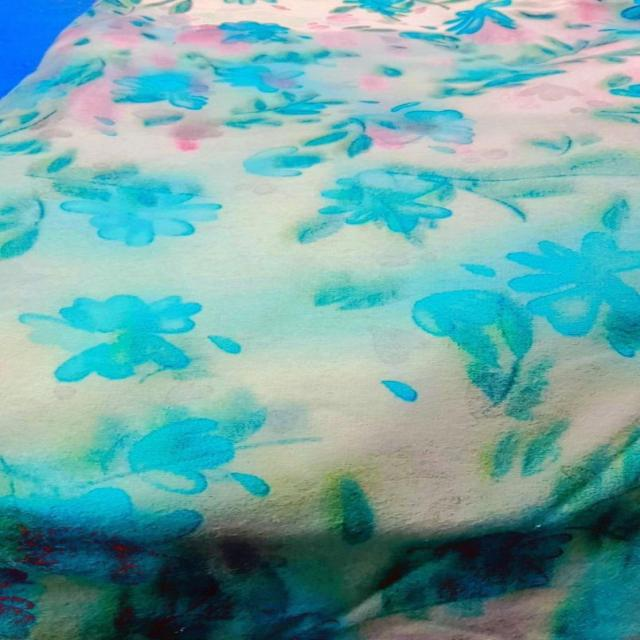baekra: (13, 5, 633, 639)
